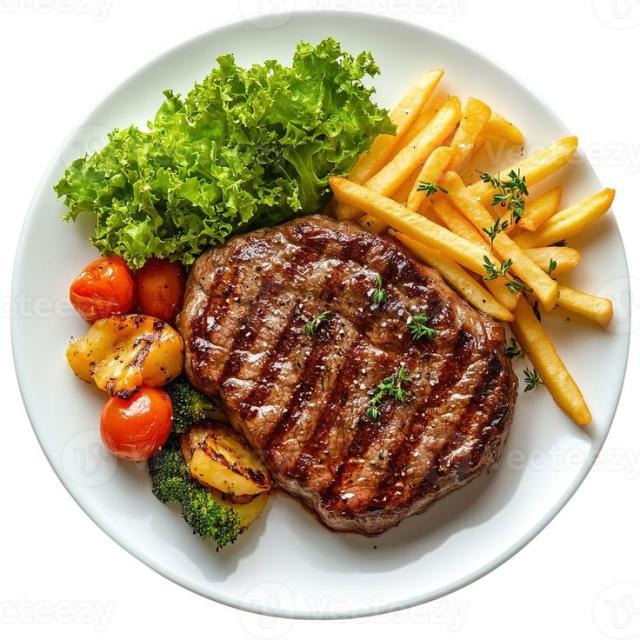beef steak: (178, 215, 517, 534)
broccoli: (149, 428, 248, 550), (164, 377, 216, 433)
frayed potatoe: (67, 314, 183, 399), (180, 422, 271, 503), (225, 493, 269, 530)
lettuce: (56, 38, 392, 266)
potato fries: (330, 177, 486, 274), (349, 70, 443, 183), (395, 234, 513, 321), (511, 299, 591, 426), (516, 189, 614, 247), (494, 234, 557, 310), (500, 137, 577, 186), (448, 98, 491, 171), (407, 147, 454, 212), (558, 287, 613, 326), (518, 187, 561, 231), (525, 247, 581, 277), (482, 112, 523, 144)
tomato: (100, 387, 171, 460), (70, 257, 134, 322), (136, 257, 185, 323)
